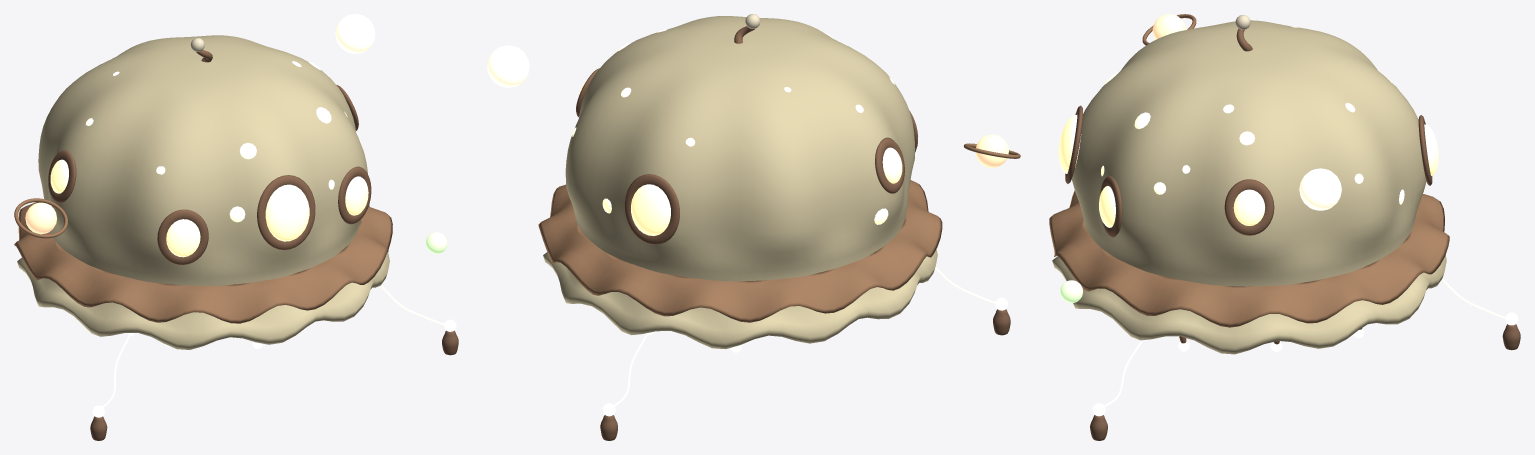
The model's file is house_05_0508.fbx.
The picture shows the model from 3 angles, left to right: view 1: azimuth 30°, elevation 25°; view 2: azimuth 150°, elevation 25°; view 3: azimuth 270°, elevation 25°; orthographic projection. The views are drawn at different scales.
Parts seen in each view (by area): view 1: House05_Dome, House05_Frill, House05_WindowRims, House05_Windows, House05_FloatOrb_1, House05_FloatOrb_2, House05_Spots; view 2: House05_Dome, House05_Frill, House05_WindowRims, House05_Windows, House05_FloatOrb_2, House05_FloatOrb_1, House05_Spots; view 3: House05_Dome, House05_Frill, House05_WindowRims, House05_Windows, House05_FloatOrb_2, House05_Spots, House05_FloatOrb_1.
Boxes of the visible parts, x1,y1,x2,y2 form: House05_Dome: (17, 35, 389, 349); House05_Frill: (14, 202, 392, 323); House05_WindowRims: (48, 85, 371, 265); House05_Windows: (50, 96, 368, 257); House05_FloatOrb_1: (14, 198, 68, 238); House05_FloatOrb_2: (335, 14, 375, 53); House05_Spots: (50, 61, 361, 222); House05_Dome: (543, 16, 937, 349); House05_Frill: (538, 180, 942, 322); House05_WindowRims: (576, 68, 917, 244); House05_Windows: (579, 80, 902, 235); House05_FloatOrb_2: (487, 45, 529, 87); House05_FloatOrb_1: (964, 134, 1020, 167); House05_Spots: (572, 29, 894, 224); House05_Dome: (1052, 20, 1446, 354); House05_Frill: (1049, 190, 1449, 327); House05_WindowRims: (1065, 105, 1432, 237); House05_Windows: (1058, 115, 1438, 227); House05_FloatOrb_2: (1299, 168, 1341, 210); House05_Spots: (1101, 26, 1404, 204); House05_FloatOrb_1: (1142, 14, 1196, 45).
Bounding box in the file's own units: 5.87 × 4.07 × 5.3.
